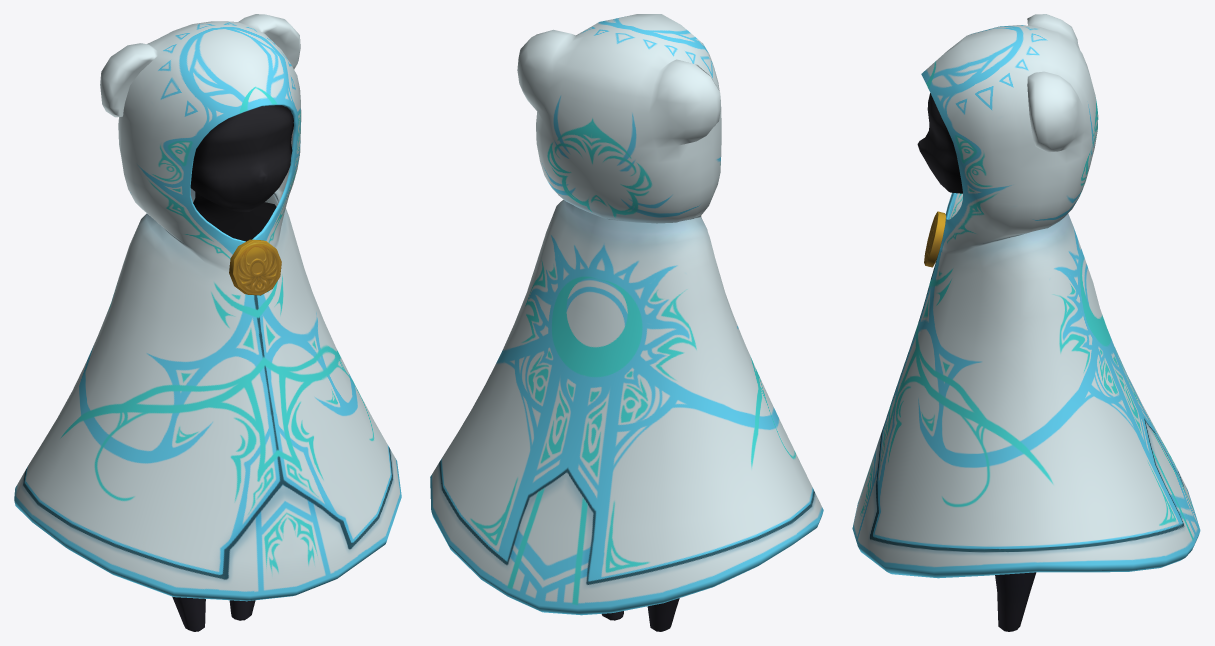
The model's file is Player01test.fbx.
3 views of the same model, side by side, from view 1: azimuth 30°, elevation 25°; view 2: azimuth 150°, elevation 25°; view 3: azimuth 270°, elevation 25° (orthographic). The views are drawn at different scales.
Parts seen in each view (by area): view 1: pCylinder10; view 2: pCylinder10; view 3: pCylinder10.
Part boxes in pixels (x1=…): pCylinder10: x1=14, y1=14, x2=401, y2=631; pCylinder10: x1=430, y1=14, x2=823, y2=631; pCylinder10: x1=852, y1=14, x2=1200, y2=631.
Bounding box in the file's own units: 46.24 × 75.94 × 40.95.
Materials: 1 (1 with a texture image).
